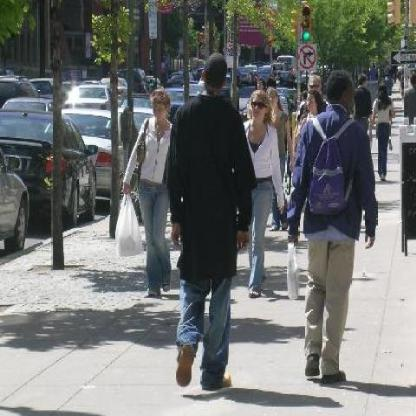person: (158, 53, 261, 394), (283, 69, 364, 385), (370, 80, 395, 177)
